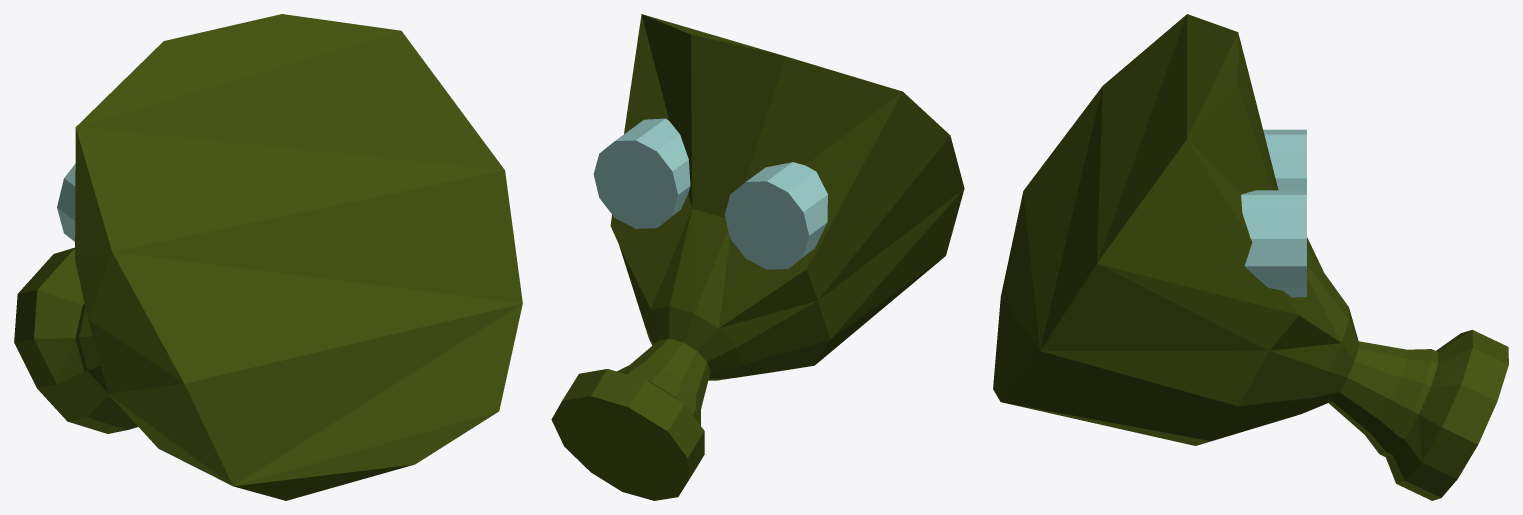
Rendered from gas.obj.
3 views of the same model, side by side, from view 1: azimuth 30°, elevation 25°; view 2: azimuth 150°, elevation 25°; view 3: azimuth 270°, elevation 25° (orthographic). The views are drawn at different scales.
Parts seen in each view (by area): view 1: group574527305, group1235149680; view 2: group574527305, group1235149680, group70728509; view 3: group574527305, group70728509, group1235149680.
Boxes of the visible parts, x1=… form: group574527305: x1=14, y1=14, x2=522, y2=500; group1235149680: x1=57, y1=163, x2=75, y2=241; group574527305: x1=551, y1=14, x2=964, y2=500; group1235149680: x1=724, y1=162, x2=827, y2=269; group70728509: x1=593, y1=118, x2=690, y2=228; group574527305: x1=993, y1=14, x2=1508, y2=500; group70728509: x1=1241, y1=190, x2=1306, y2=297; group1235149680: x1=1263, y1=129, x2=1306, y2=190.
Size of the model in its own units: 0.7402 by 0.8832 by 0.9611.
